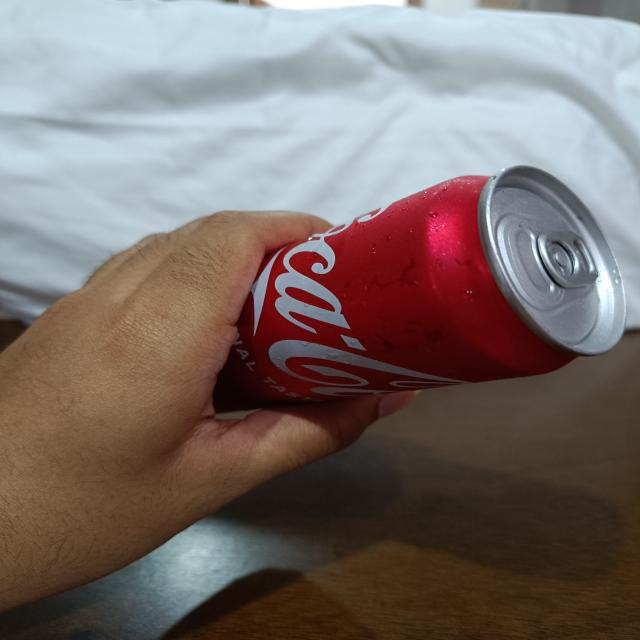coke: (193, 165, 632, 398)
